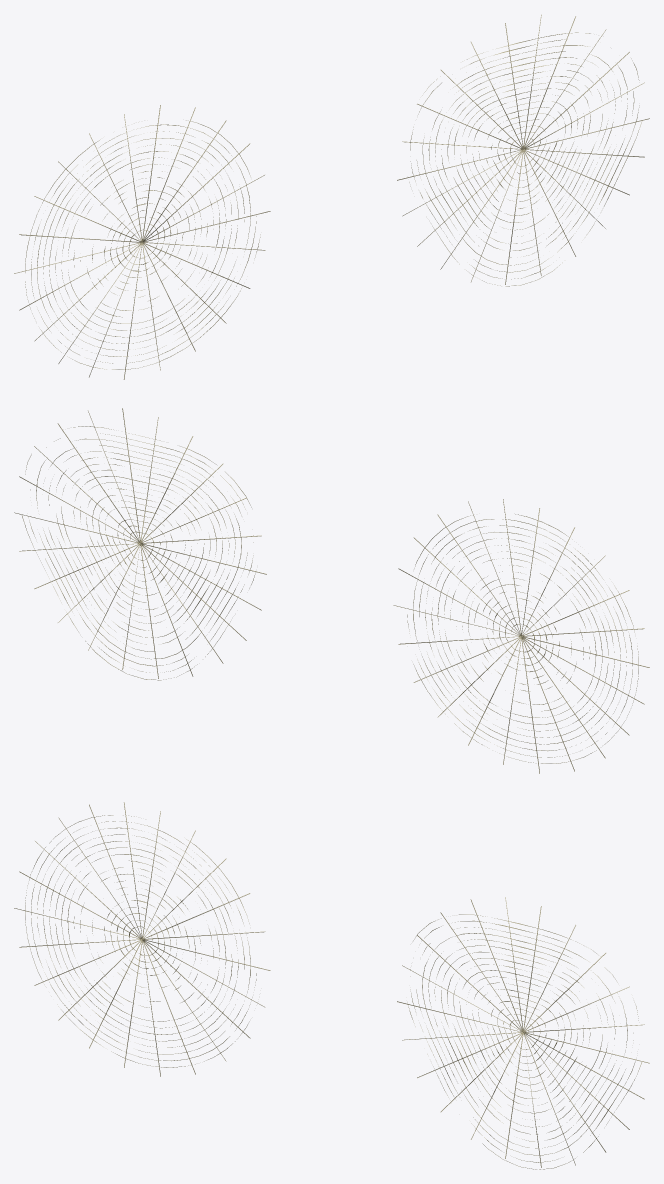
3 views of the same model, one above another, from view 1: azimuth 30°, elevation 25°; view 2: azimuth 150°, elevation 25°; view 3: azimuth 330°, elevation 25° (orthographic).
Visible parts, largest first — view 1: B16_SPEC_Silk_export; view 2: B16_SPEC_Silk_export; view 3: B16_SPEC_Silk_export.
Boxes of the visible parts, x1,y1,x2,y2 form: B16_SPEC_Silk_export: [14, 14, 649, 379]; B16_SPEC_Silk_export: [14, 408, 649, 773]; B16_SPEC_Silk_export: [14, 802, 649, 1169].
Size of the model in its own units: 3.47 by 1.4 by 0.00635.
